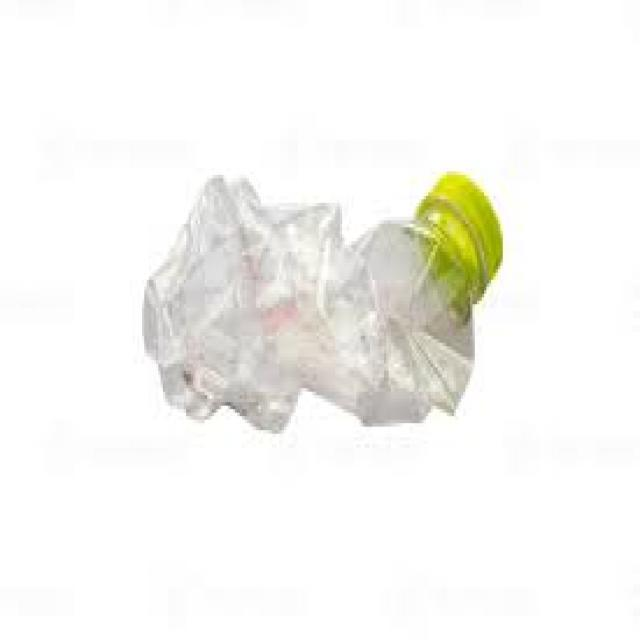BIODEGRADABLE: (132, 154, 506, 443)
